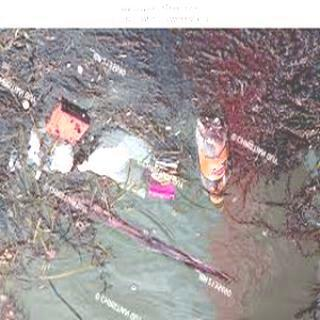Plastic: (194, 114, 232, 207)
Trash: (82, 130, 154, 191), (146, 148, 183, 202), (45, 140, 78, 175), (26, 126, 44, 167)
